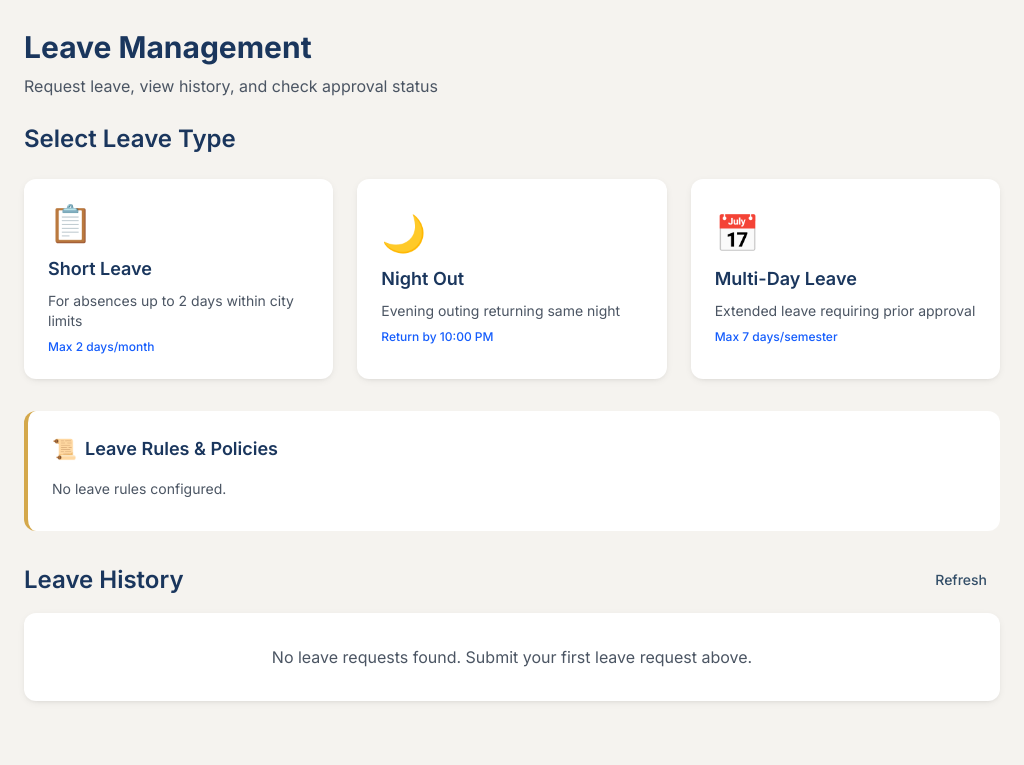
Test case: Task 18.1 - Student Leave Request & History › Leave Type Selection › should navigate to leave type card selection when clicking back button
This screenshot has width=1024, height=765.
Click the button that starts with "Short Leave". click: (70, 223)
box: [24, 179, 333, 379]
(page scrolled)
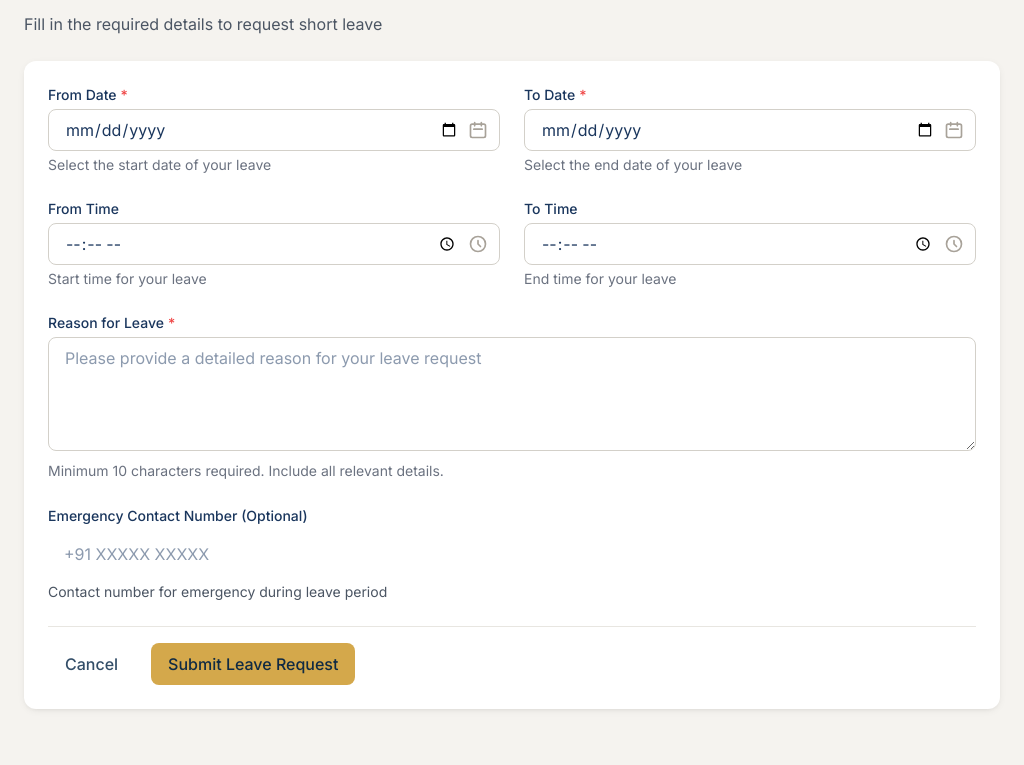
Click the button "Cancel". click: (92, 664)
box: [48, 643, 135, 685]
(page scrolled)
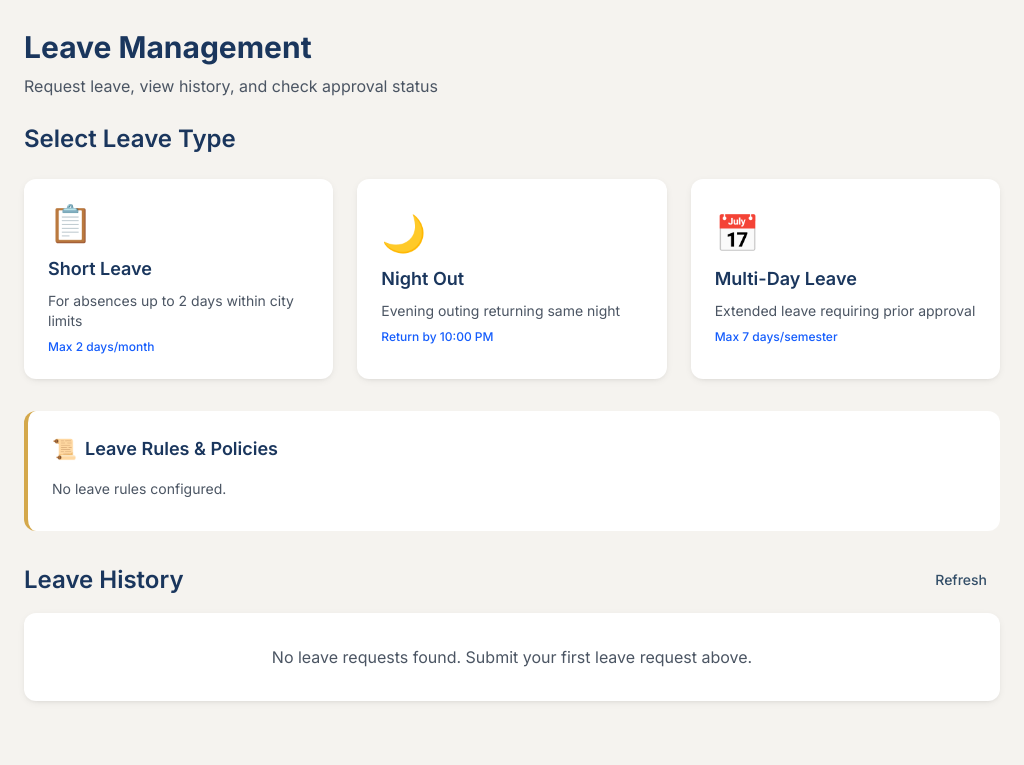
Now the heading "Select Leave Type" is shown, box [24, 124, 236, 153]
